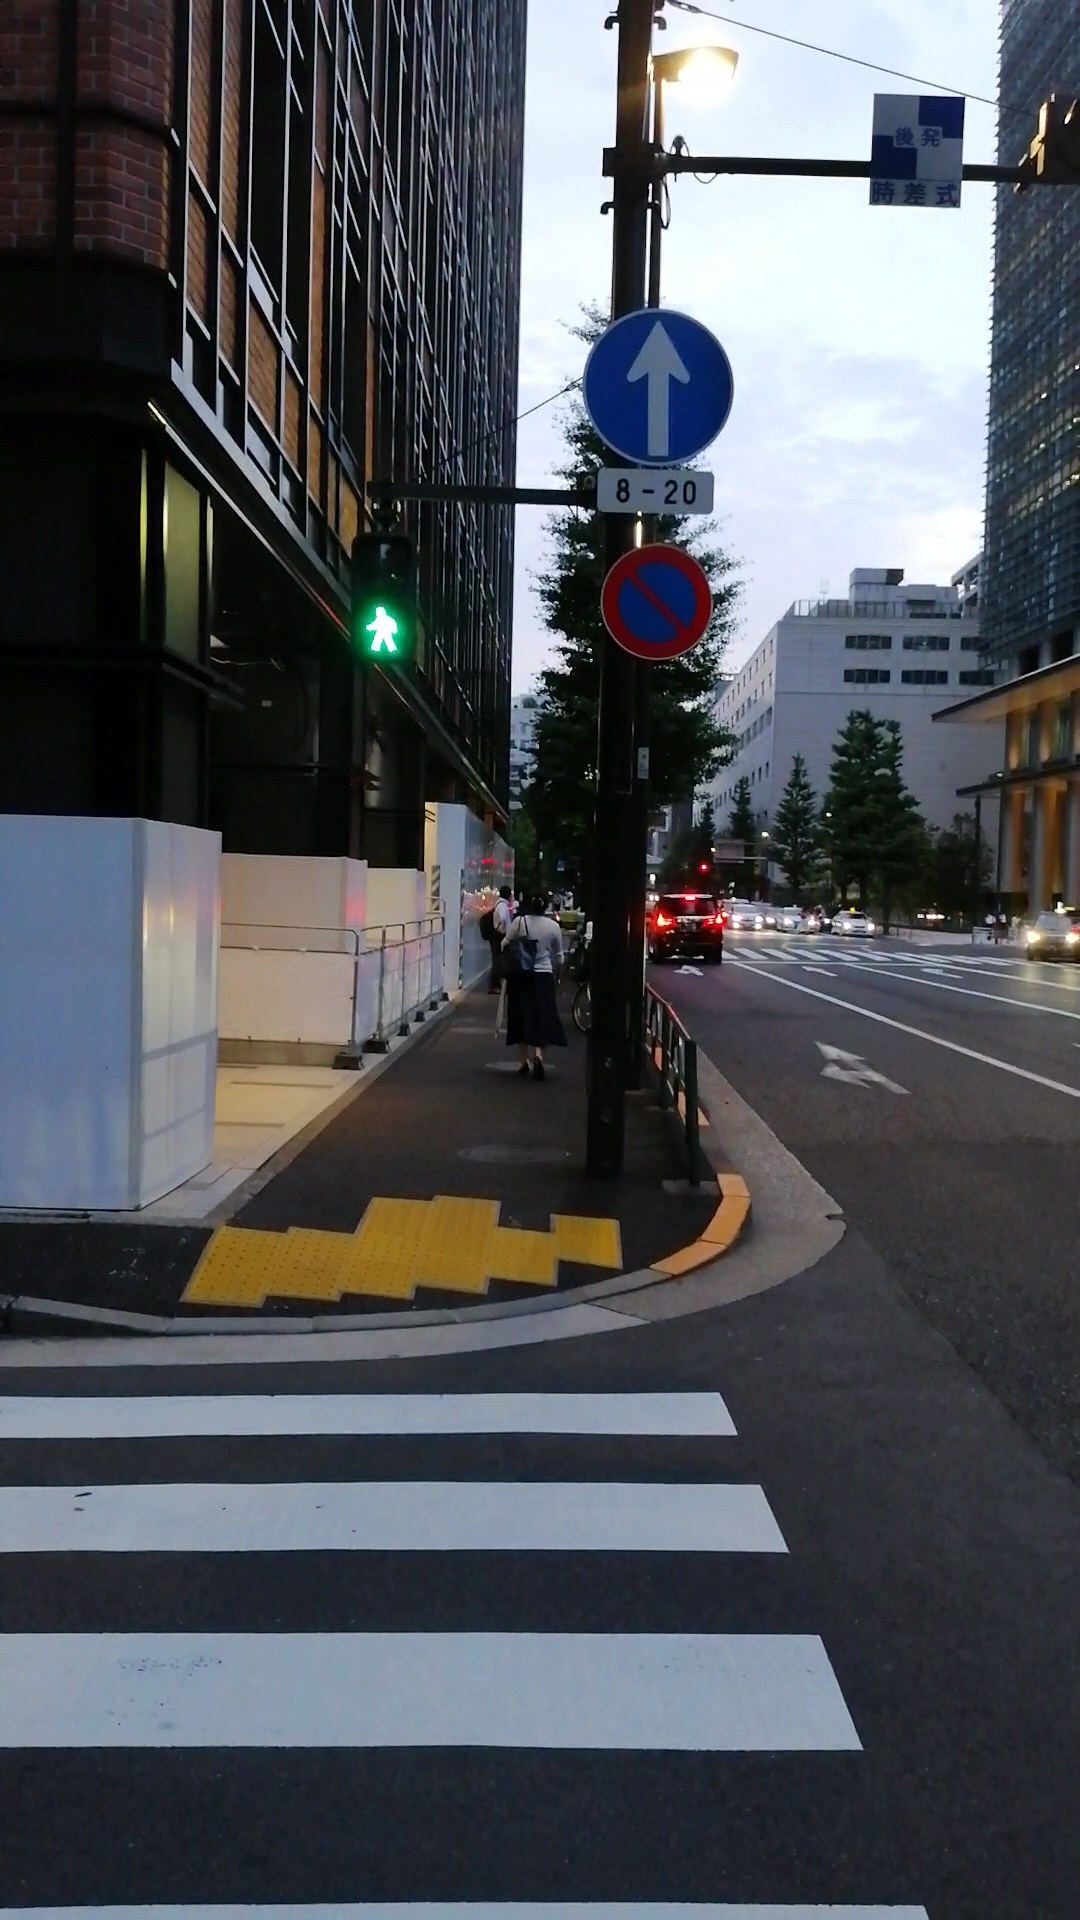green: (349, 534, 417, 665)
